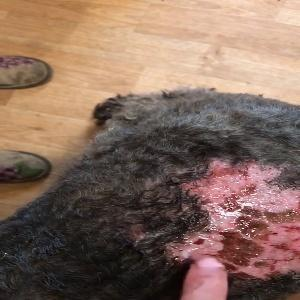skin_lesions: (164, 153, 299, 286)
